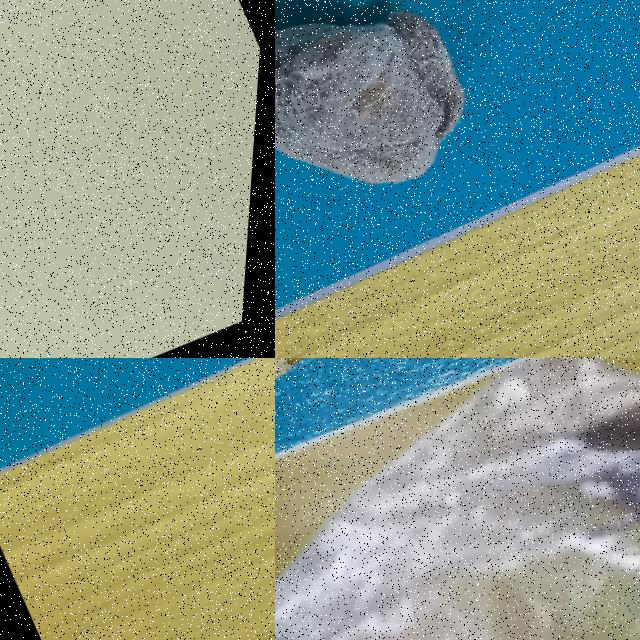Agglomerated_cocoabeans: (275, 0, 595, 327)
Flat_cocoabeans: (275, 358, 487, 493)
